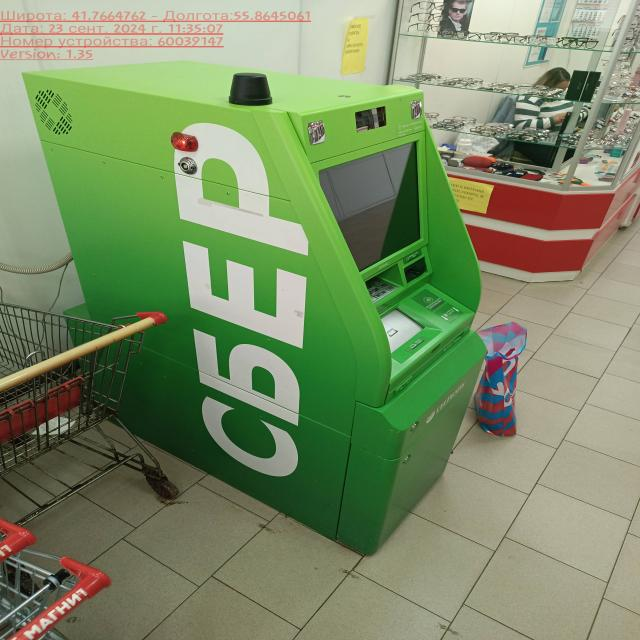bank: (21, 59, 499, 556)
